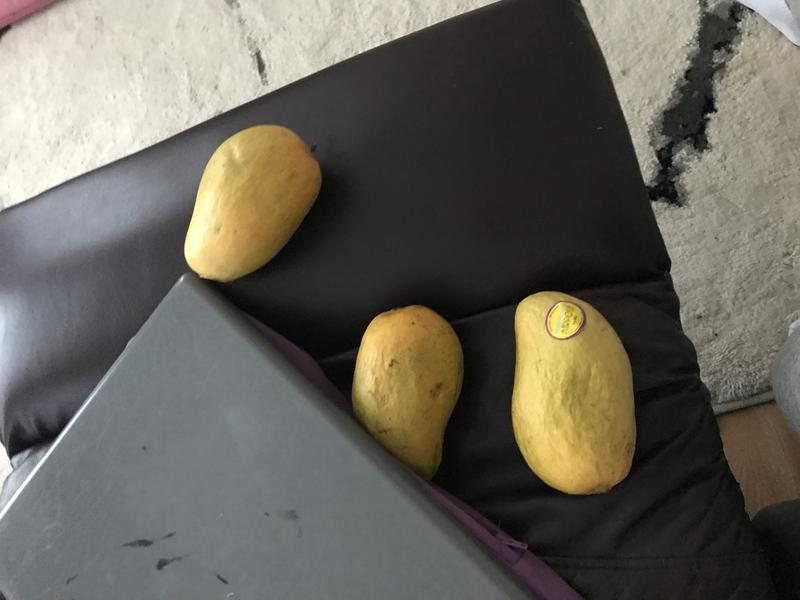mango: (505, 285, 644, 503), (179, 113, 329, 295), (345, 302, 468, 498)
